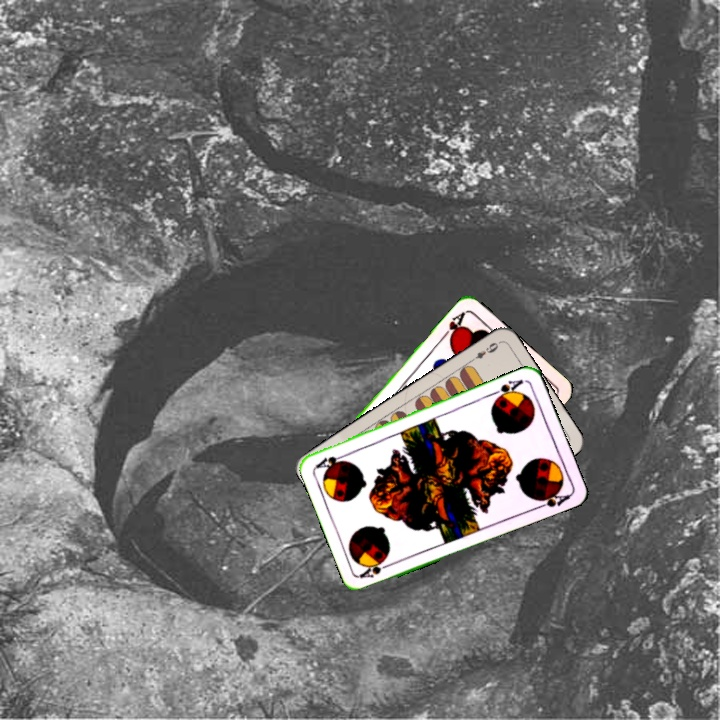E9: (466, 338, 502, 365)
HA: (438, 307, 469, 344)
SA: (488, 375, 526, 403), (356, 556, 396, 580)
